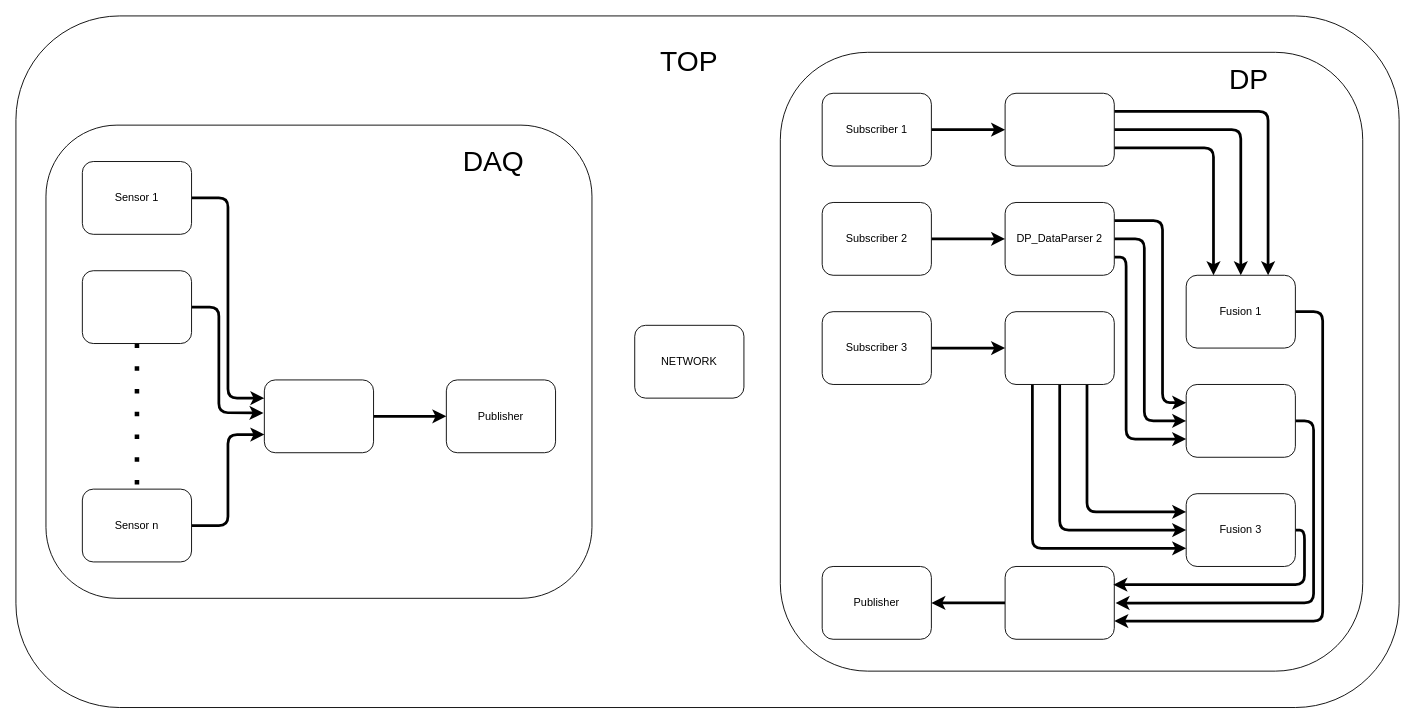
Some shapes in this 1415 by 723 pixel diagram are drawn without their labels. Each missing label, with the centre of its shape:
"DAQ_Packetizer" goes at (318,416).
"DP_DataParser 1" goes at (1059,129).
"DP_DataParser 3" goes at (1059,347).
"DP_Packetizer" goes at (1059,602).
"Fusion 2" goes at (1240,420).
"Sensor 2" goes at (136,307).
